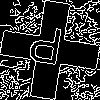P: (25, 25, 65, 75)
